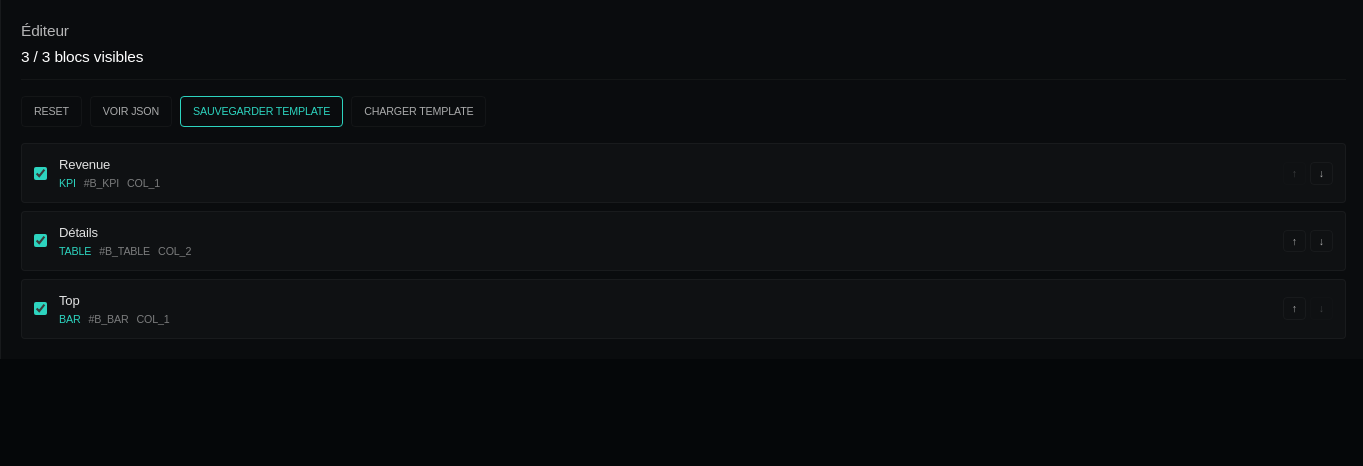
Test case: ReportEditor — load template › affiche 'Aucun template' si liste vide
Click the button with test id "report-editor-load-template": (419, 112) [351,96,486,127]
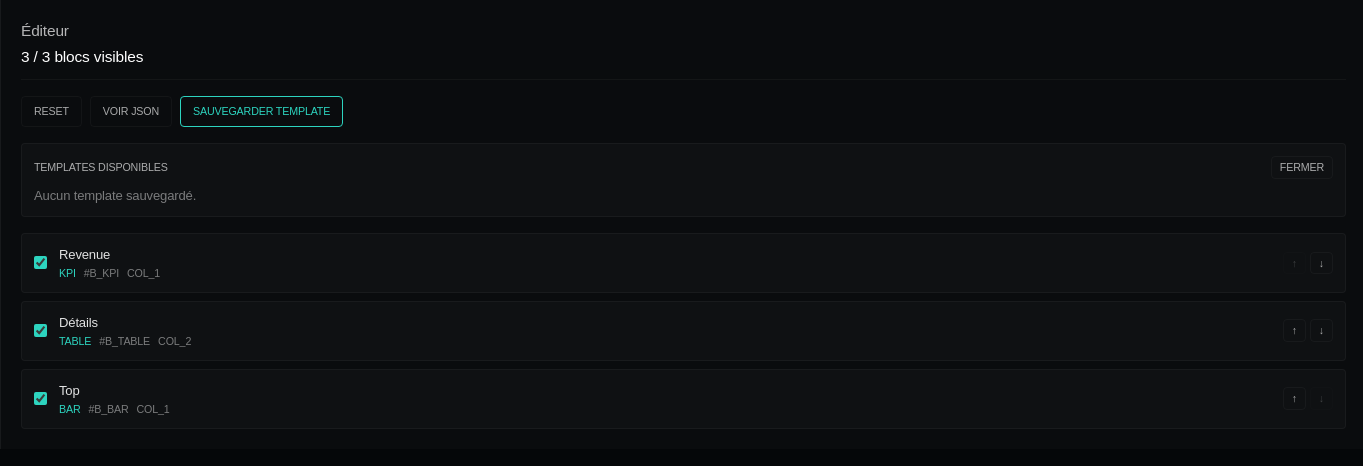
Expected: the text "Aucun template sauvegardé." is shown, [34,188,196,203]
